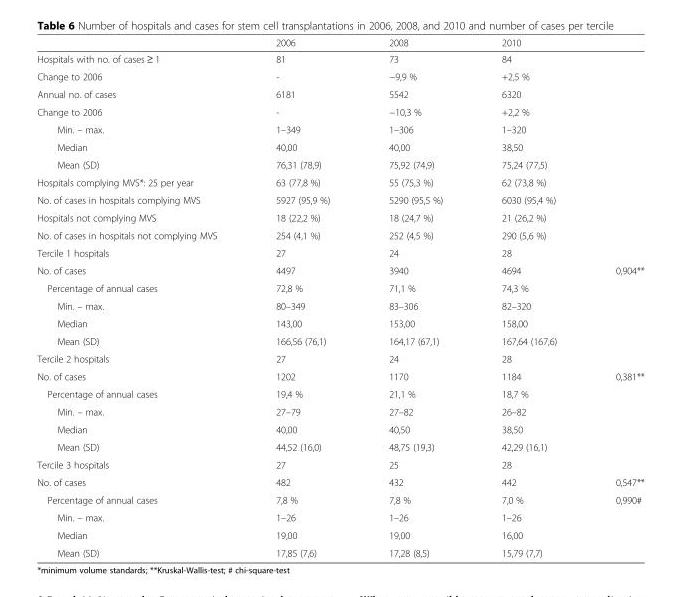table: (36, 36, 643, 558)
table column: (36, 36, 245, 558), (471, 36, 585, 558), (245, 36, 358, 558), (358, 36, 471, 558), (585, 36, 643, 558)
table column header: (36, 36, 643, 50)
table row: (36, 67, 643, 85), (36, 102, 643, 120), (36, 120, 643, 138), (36, 155, 643, 173), (36, 190, 643, 208), (36, 208, 643, 226), (36, 243, 643, 261), (36, 261, 643, 279), (36, 296, 643, 314), (36, 314, 643, 332), (36, 349, 643, 367), (36, 384, 643, 402), (36, 402, 643, 420), (36, 437, 643, 455), (36, 455, 643, 473), (36, 490, 643, 508), (36, 508, 643, 526), (36, 50, 643, 67), (36, 85, 643, 102), (36, 138, 643, 155), (36, 173, 643, 190), (36, 226, 643, 243), (36, 279, 643, 296), (36, 332, 643, 349), (36, 367, 643, 384), (36, 420, 643, 437), (36, 473, 643, 490), (36, 526, 643, 543), (36, 543, 643, 558), (36, 36, 643, 50)
